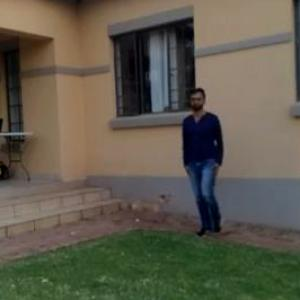follow: (180, 84, 232, 239)
